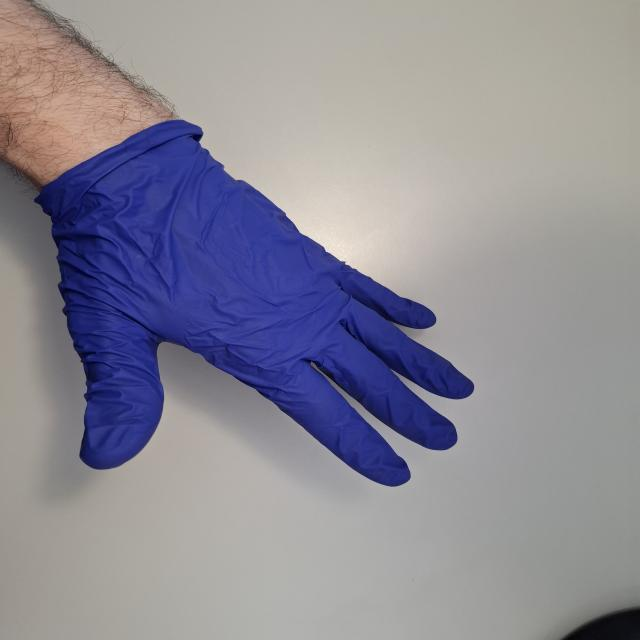glove_on: (26, 119, 480, 489)
